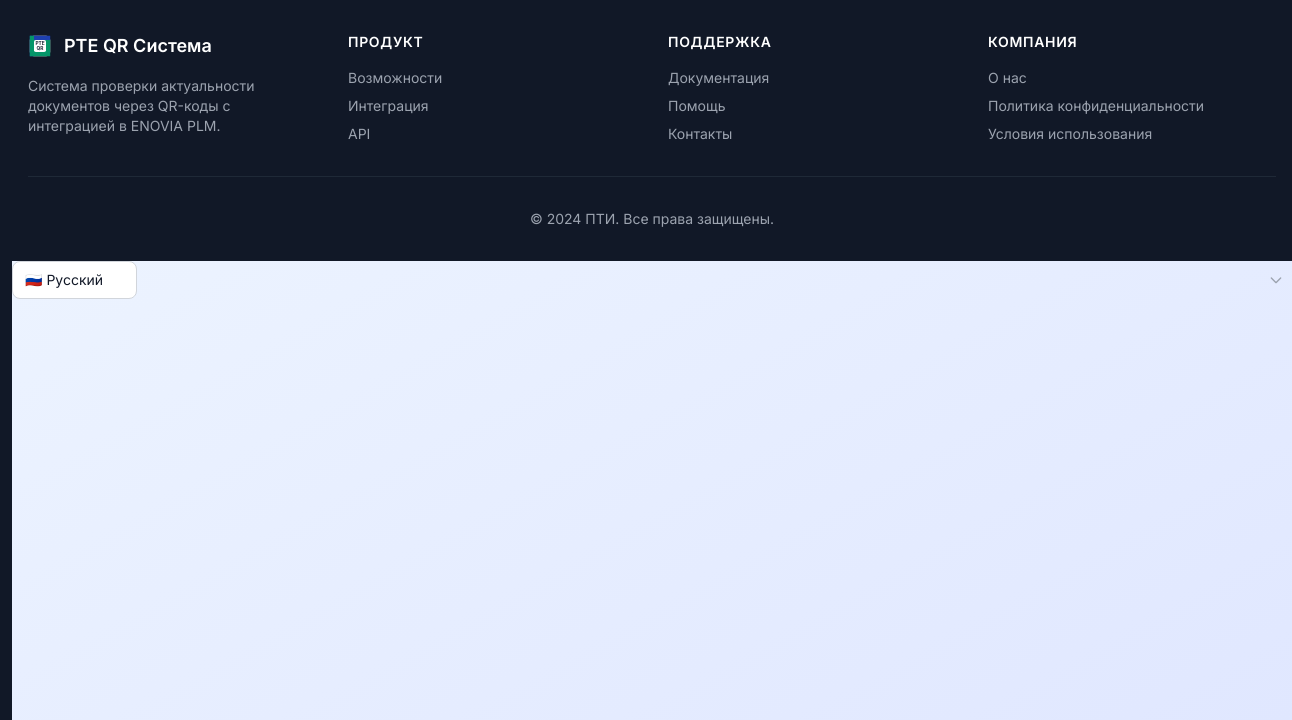
Footer › renders with Chinese language
This screenshot has width=1292, height=720.
# Change language to Chinese
Select "🇨🇳 中文" in the dropdown at (74, 280), box [12,261,137,299]
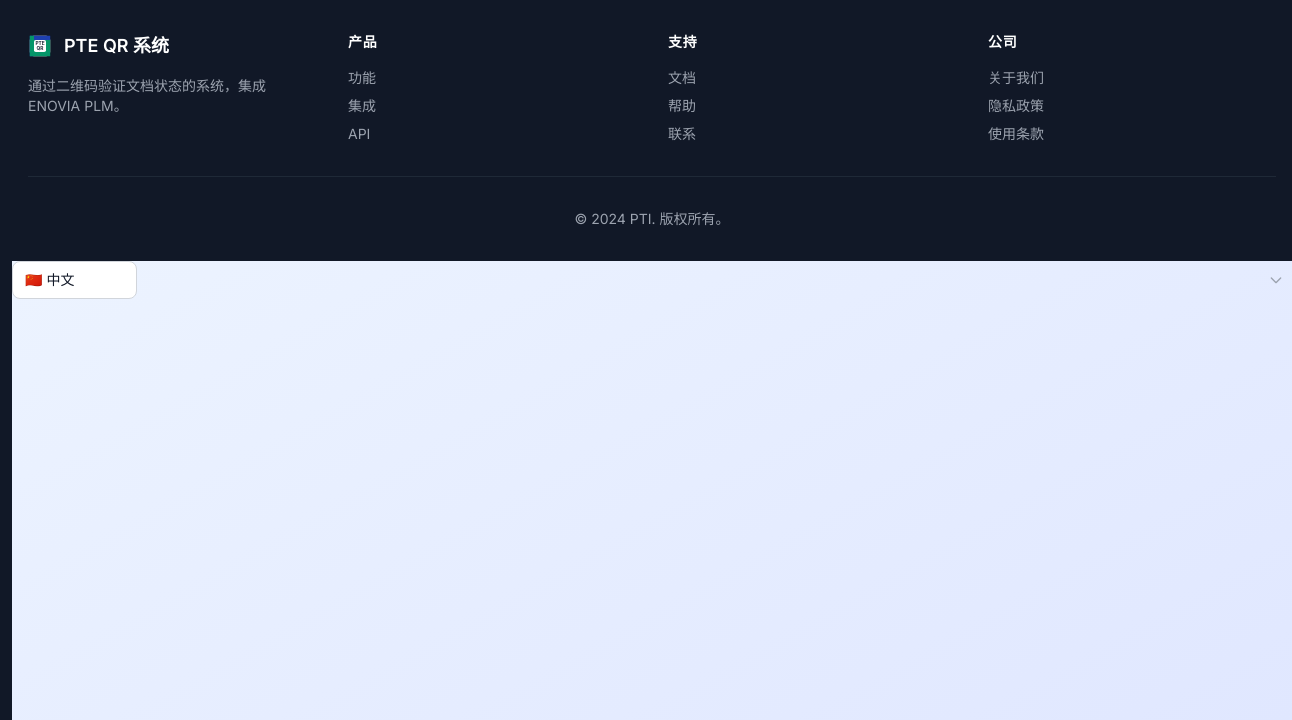
Now the heading "PTE QR 系统" is shown, box [64,32,169,60]
Now the heading "产品" is shown, box [348,33,377,50]
Now the heading "支持" is shown, box [668,33,697,50]
